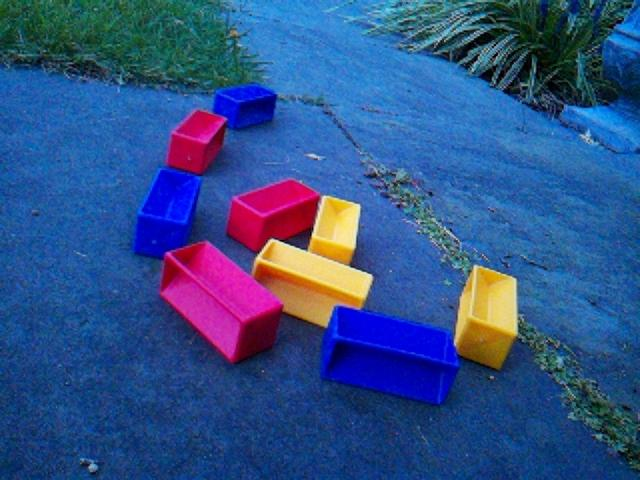blue: (319, 303, 462, 407), (132, 166, 202, 260), (212, 82, 278, 131)
red: (158, 239, 284, 364), (226, 177, 321, 253), (166, 108, 228, 175)
yellow: (252, 237, 374, 329), (453, 263, 520, 371), (308, 194, 362, 265)
